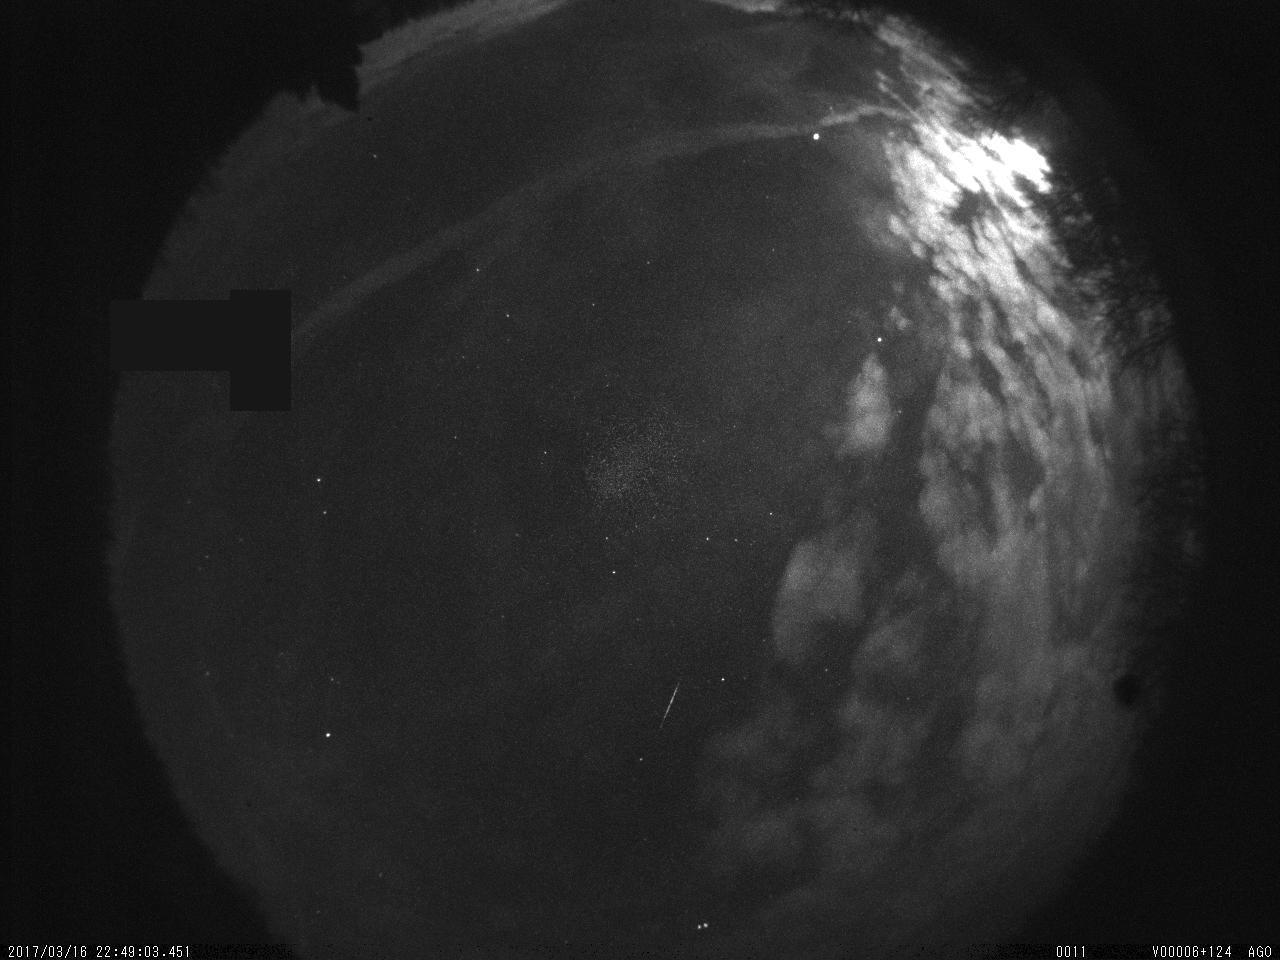Meteor: (655, 678, 685, 728)
